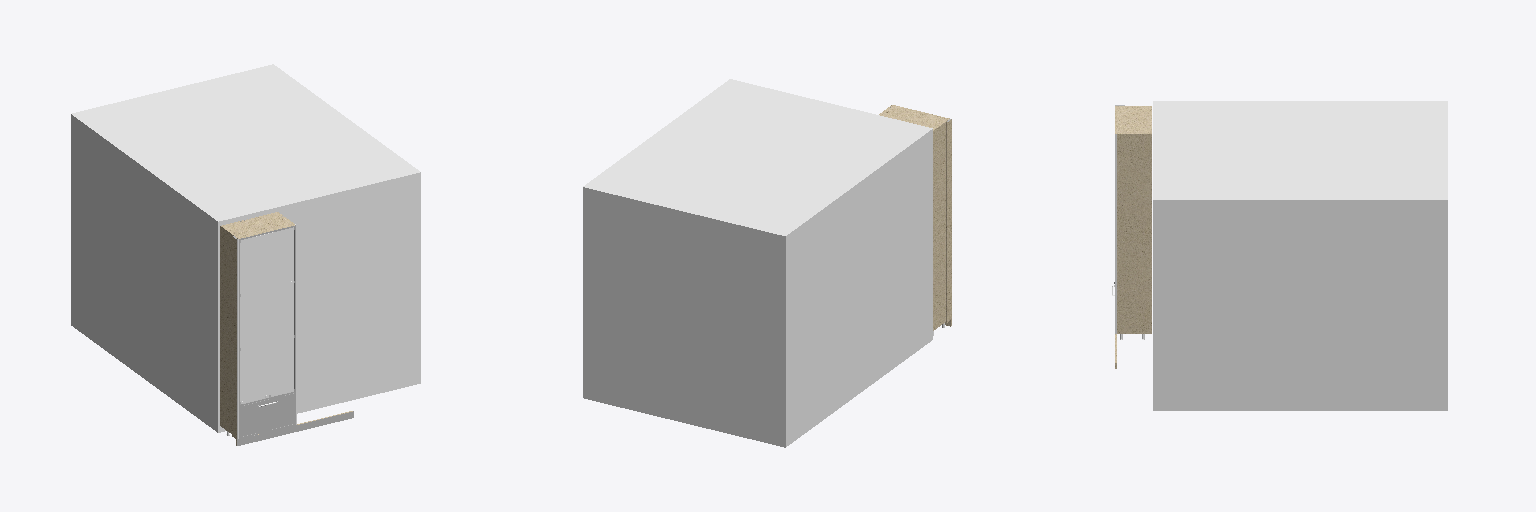
The picture shows the model from 3 angles: view 1: azimuth 30°, elevation 25°; view 2: azimuth 150°, elevation 25°; view 3: azimuth 270°, elevation 25°; orthographic projection.
Size of the model in its own units: 2523 by 2509 by 3610.
14 materials, 1 textured.